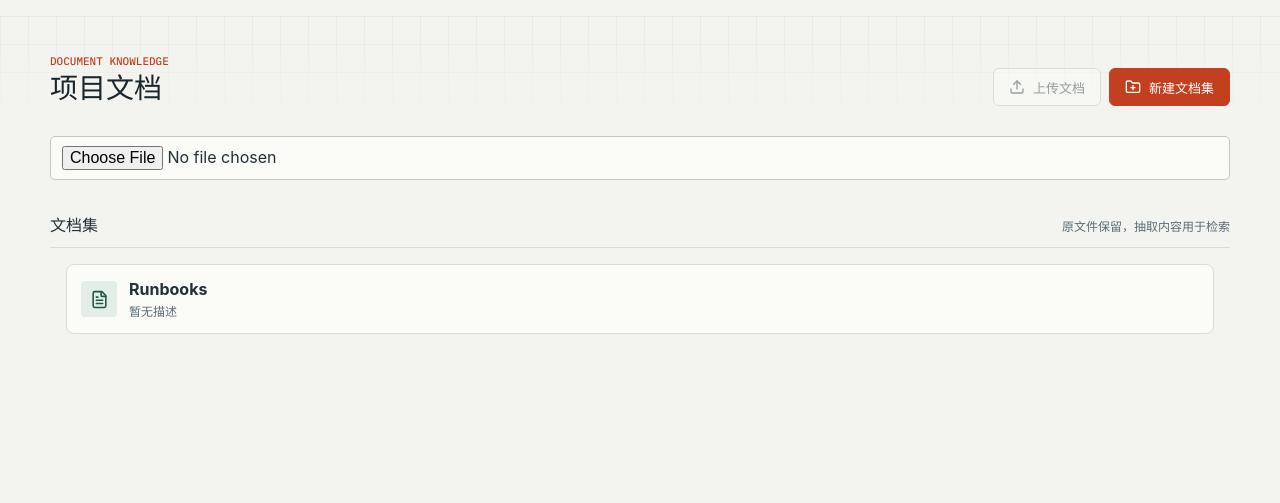
resource management failure states › shows a document query failure instead of an empty collection
The width and height of the screenshot is (1280, 503).
Click the button with class "source-card" at (99, 299), box 66,264 -> 1214,334
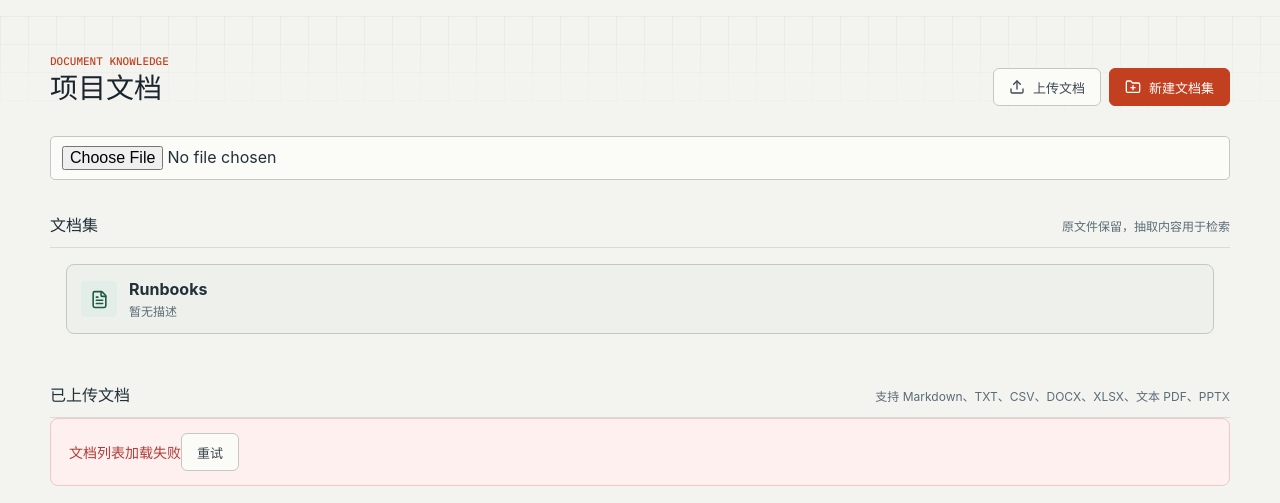
Result: the element showing "文档列表加载失败 重试" is shown at 50,418 -> 1230,486
